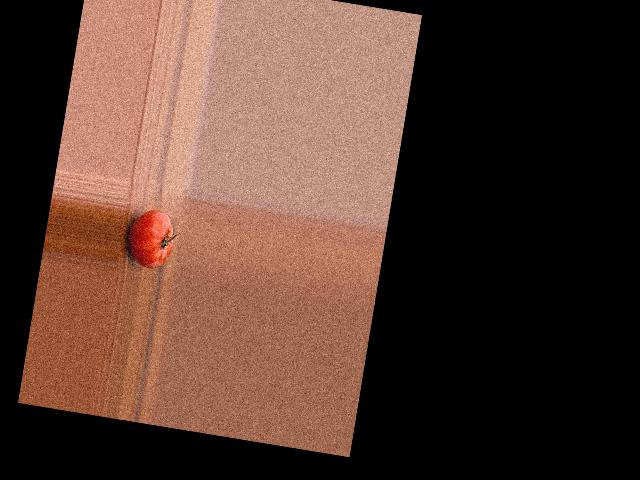tomato: (124, 205, 178, 270)
